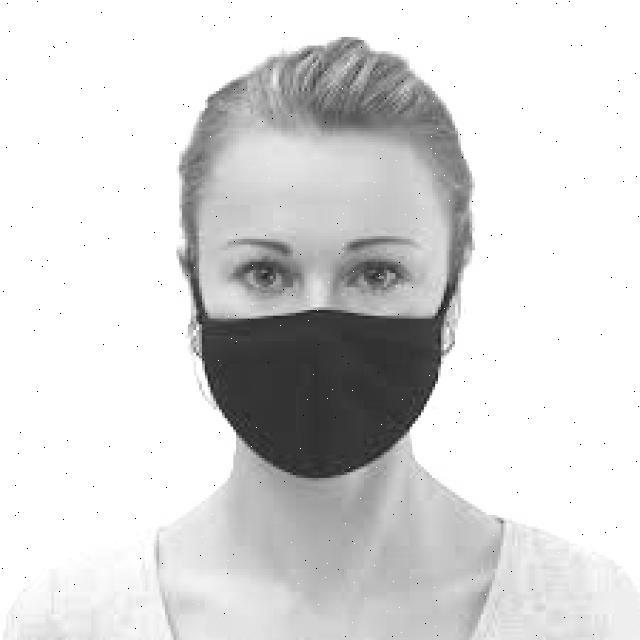fake: (155, 283, 471, 487)
real: (201, 125, 450, 485)
